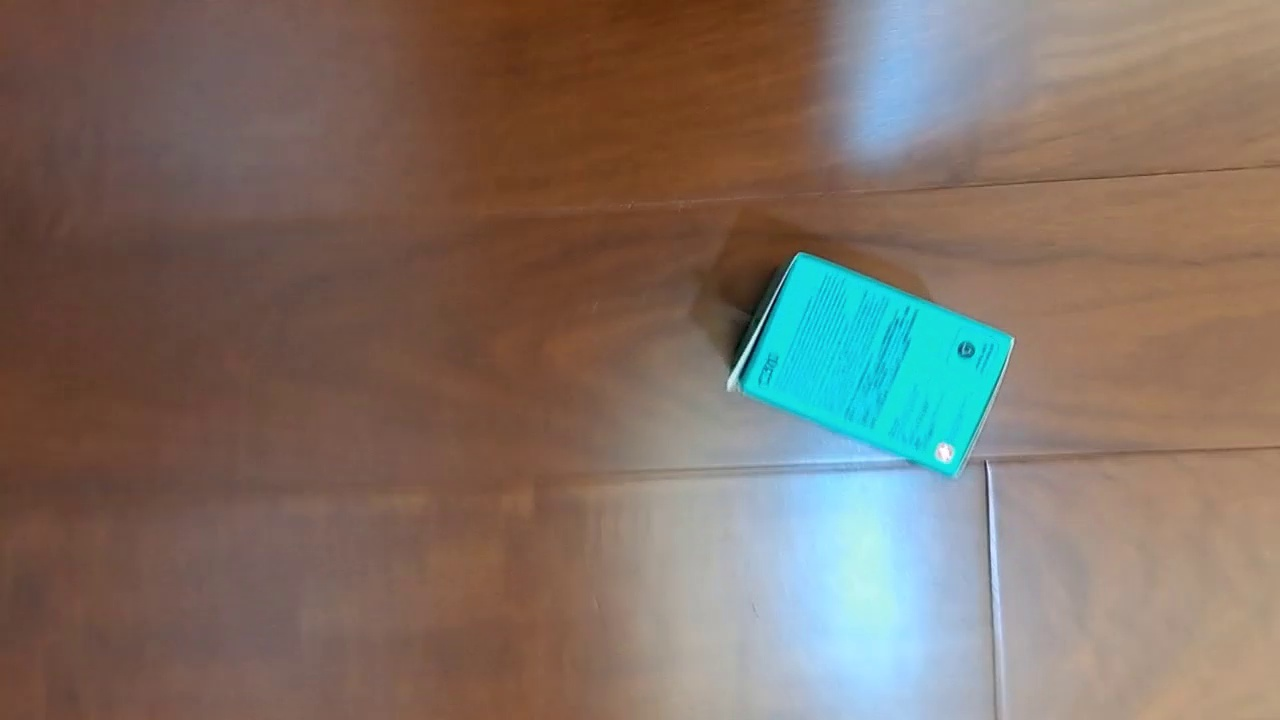webcam: (725, 251, 1016, 481)
